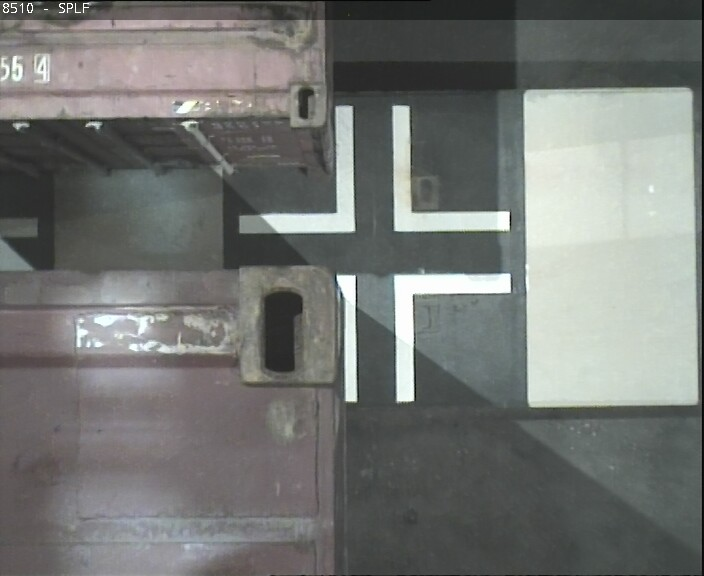groundmarker_1: (240, 274, 514, 404), (234, 107, 507, 237)
